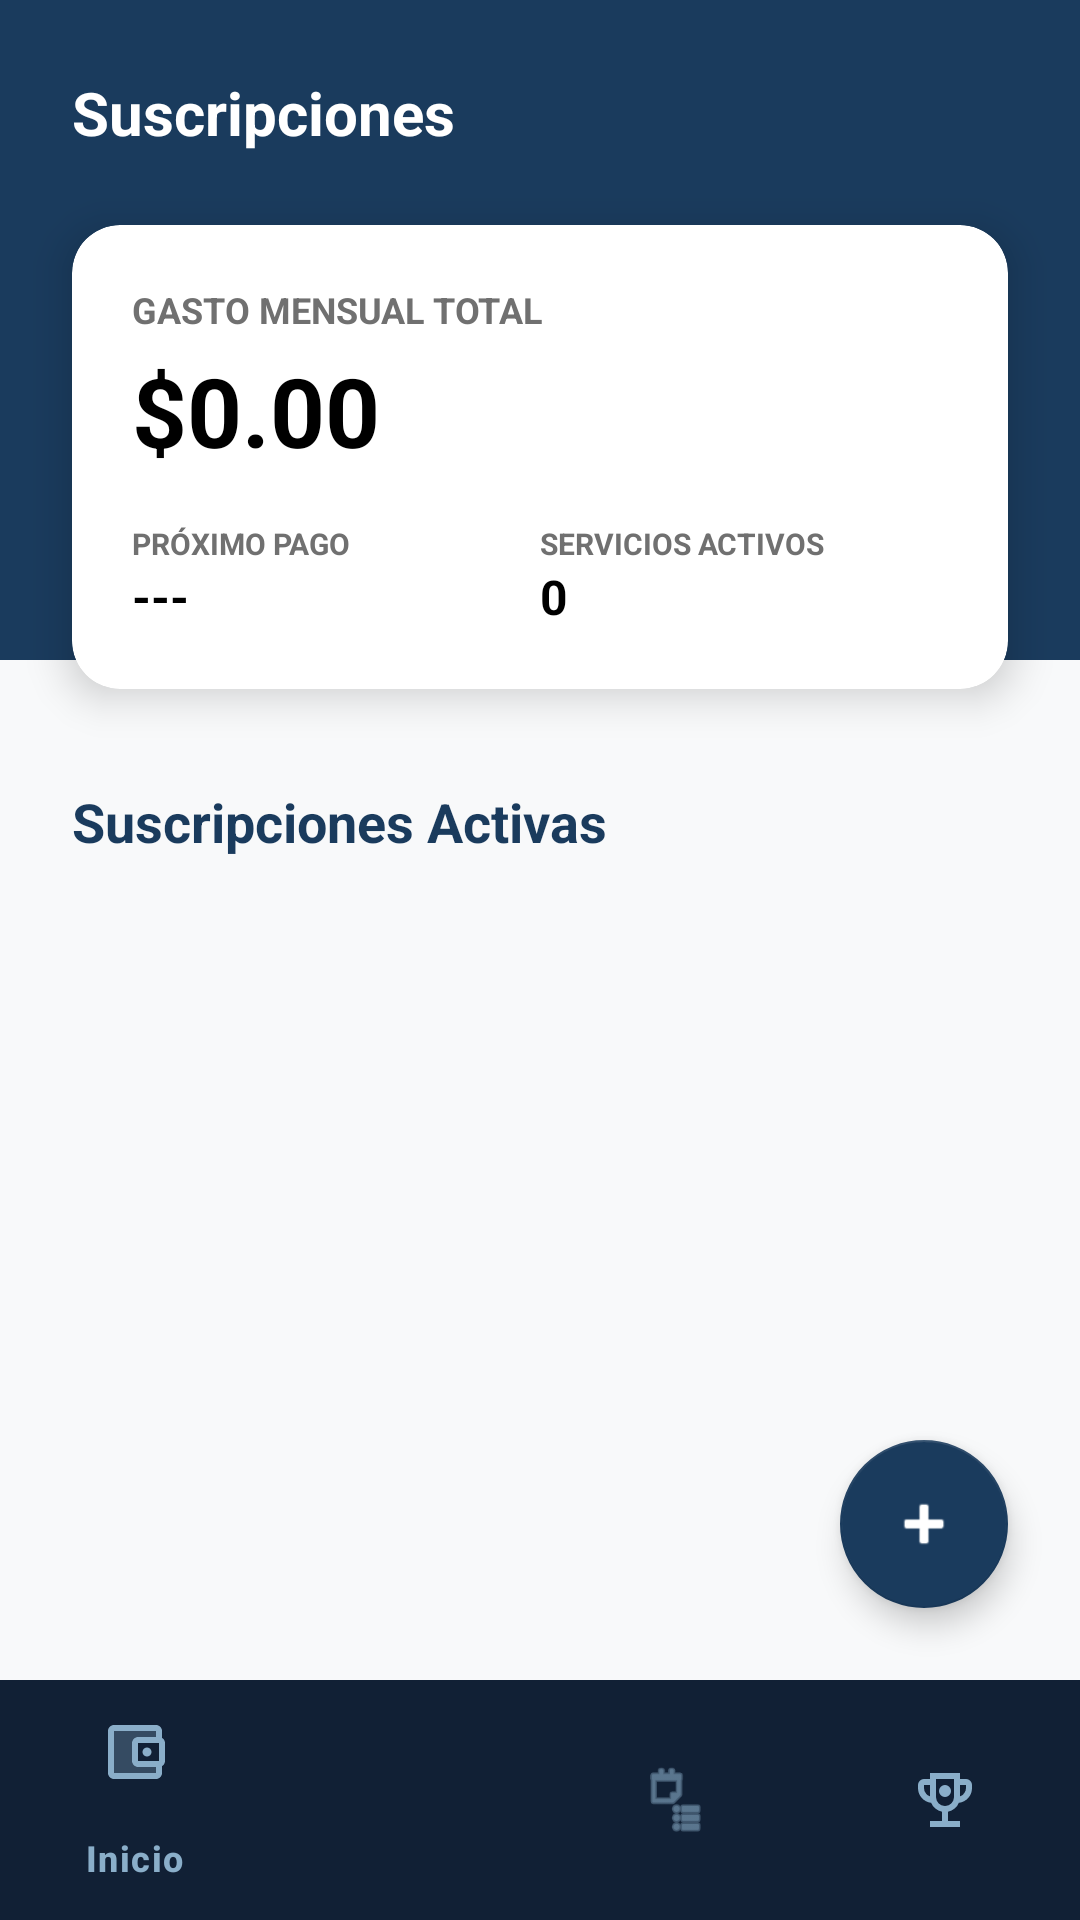

Icons on this 1080 × 1920 Android screen, each with its box as [x1=x1, y1=y1, x2=x2, y2=y2]:
Añadir suscripción: [x1=840, y1=1440, x2=1008, y2=1608]
